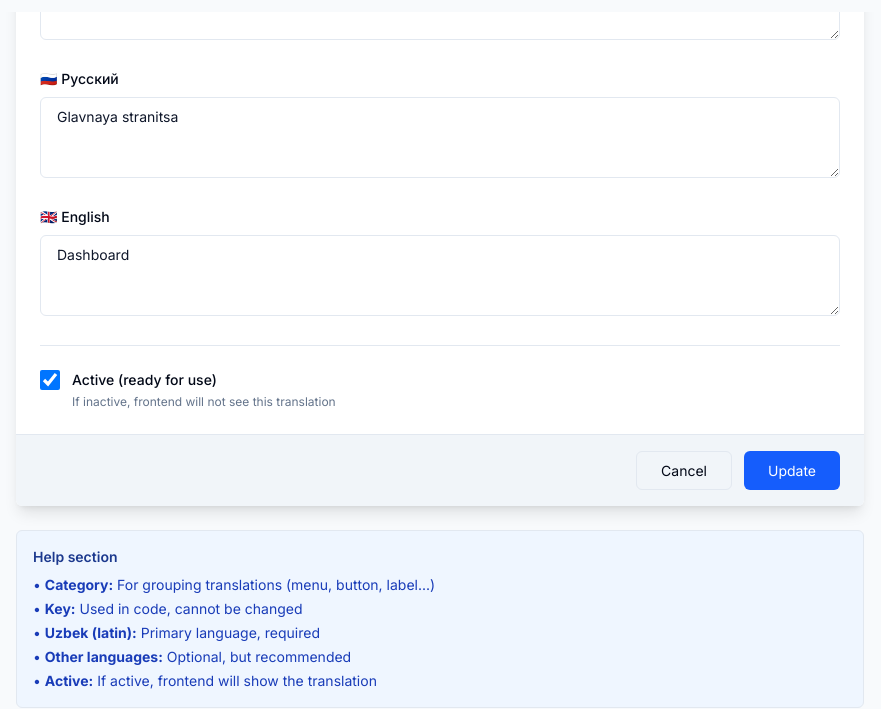
it: TranslationFormPage › shows error when form submission fails
(page scrolled)
Click the button "Update". click: [792, 470]
box: [744,451,840,490]
(page scrolled)
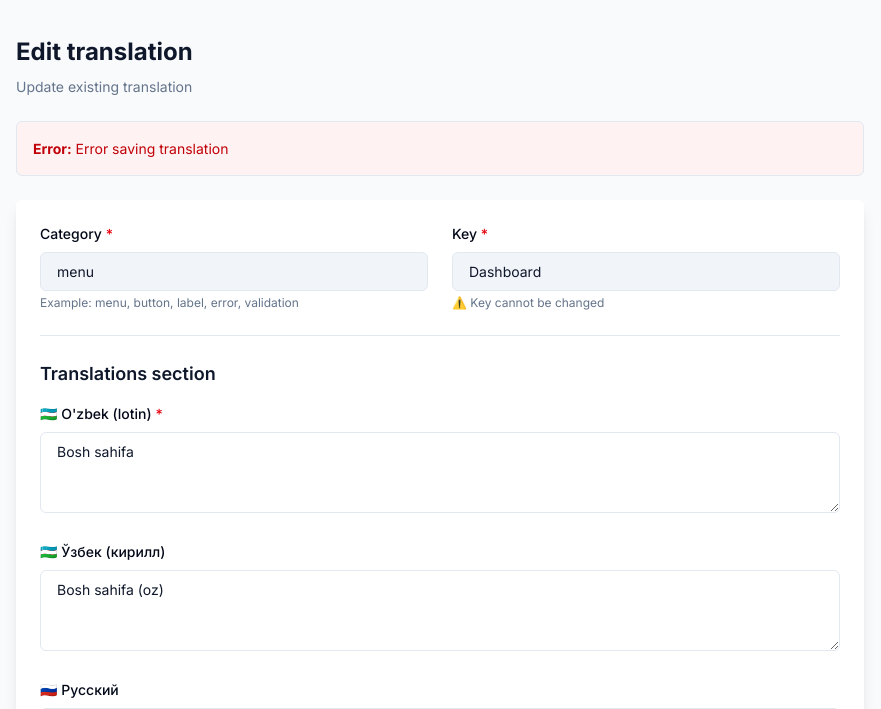
Expected: the text "Error: Error saving translation" is shown, [16,121,864,176]
